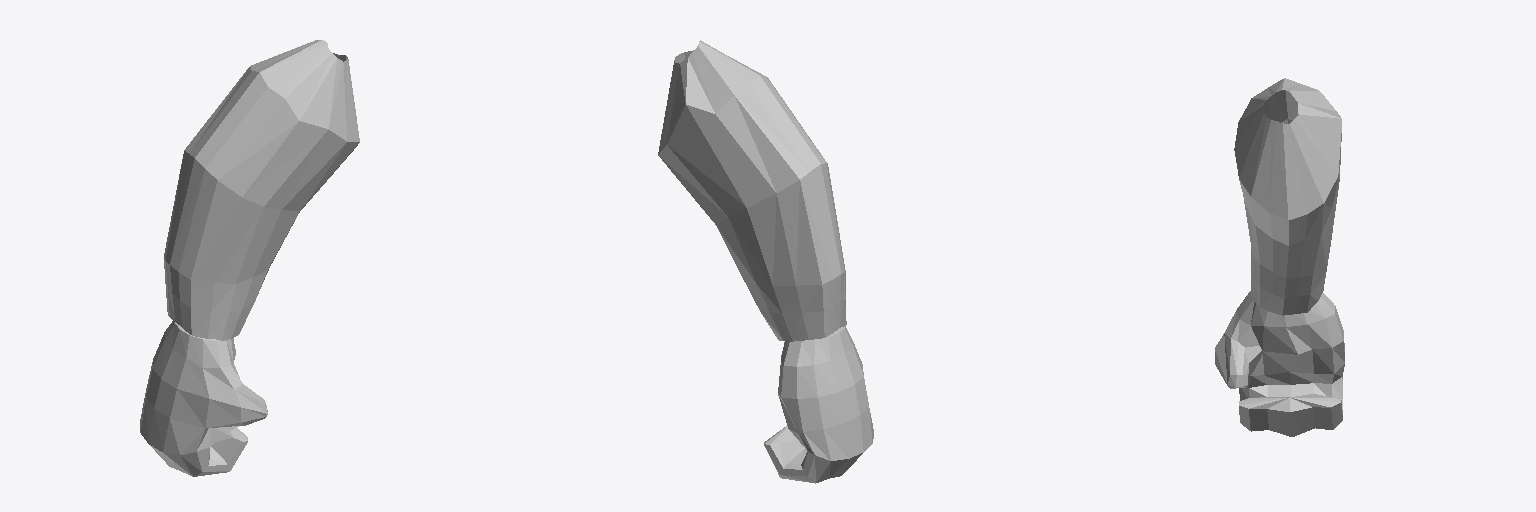
Rendered from brazoder.obj.
3 renders of one model, left to right at view 1: azimuth 30°, elevation 25°; view 2: azimuth 150°, elevation 25°; view 3: azimuth 270°, elevation 25°, orthographic.
Visible parts, largest first — view 1: brazoder_Mesh; view 2: brazoder_Mesh; view 3: brazoder_Mesh.
Boxes of the visible parts, box(x1,y1,x2,y2) form: brazoder_Mesh: box(140, 40, 359, 476); brazoder_Mesh: box(658, 40, 873, 483); brazoder_Mesh: box(1215, 78, 1344, 436).
Bounding box in the file's own units: 1.38 × 2.58 × 0.7689.